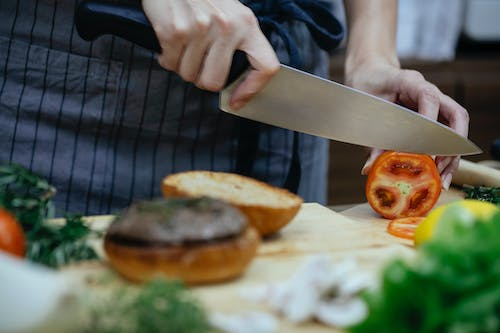knife: (74, 4, 485, 157)
